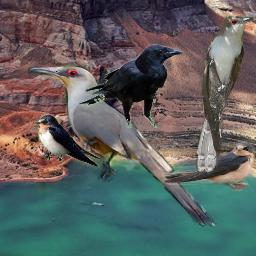Crow: (78, 44, 185, 128)
Cuckoo: (28, 64, 217, 231), (195, 13, 255, 172)
Swallow: (162, 140, 255, 191), (34, 113, 100, 169)
